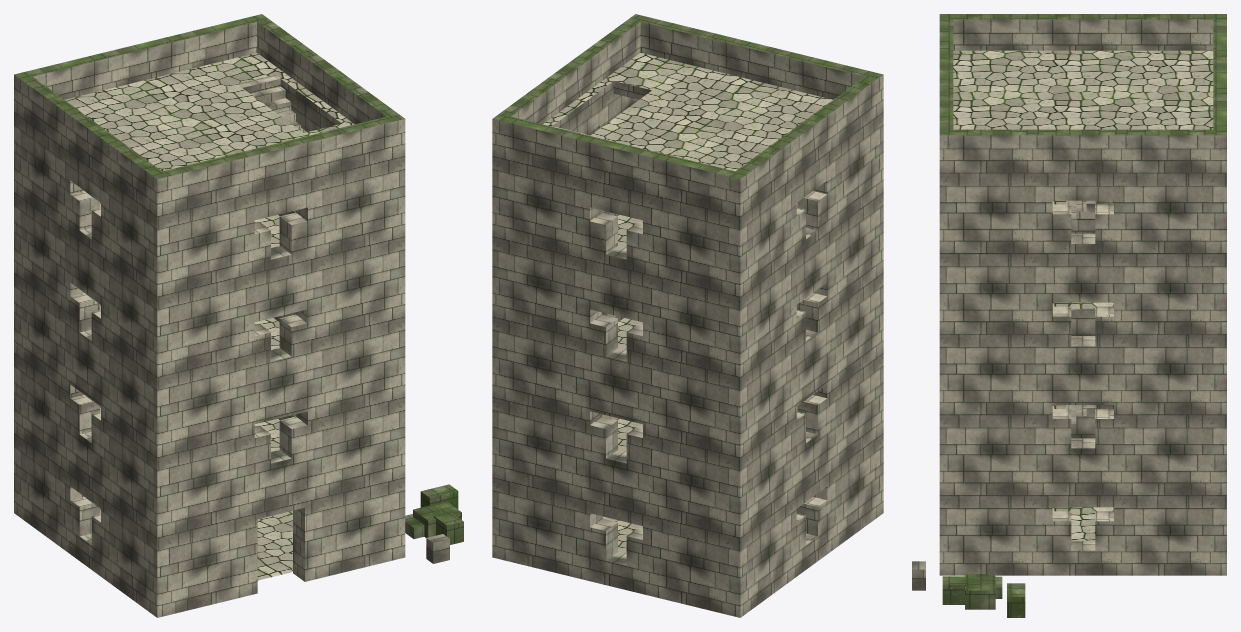
File: ruin-tower.ruins-v1.lod1.glb
The picture shows the model from 3 angles, left to right: view 1: azimuth 30°, elevation 25°; view 2: azimuth 150°, elevation 25°; view 3: azimuth 270°, elevation 25°; orthographic projection.
Parts seen in each view (by area): view 1: ruin-tower; view 2: ruin-tower; view 3: ruin-tower.
Part boxes in pixels (left/top/right/bottom): ruin-tower: left=14, top=14, right=463, bottom=617; ruin-tower: left=492, top=14, right=883, bottom=617; ruin-tower: left=912, top=14, right=1226, bottom=617.
Size of the model in its own units: 11.33 by 14.2 by 9.21.
Materials: 3 (3 with a texture image).
